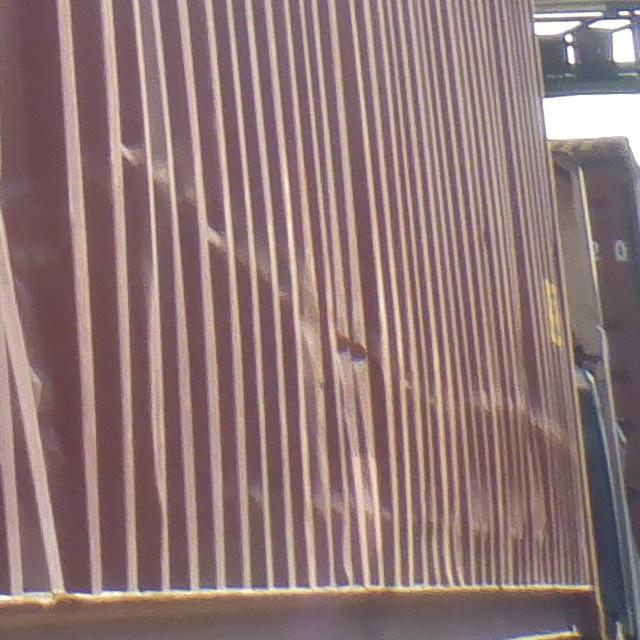dent: (325, 283, 393, 434), (509, 279, 553, 458)
